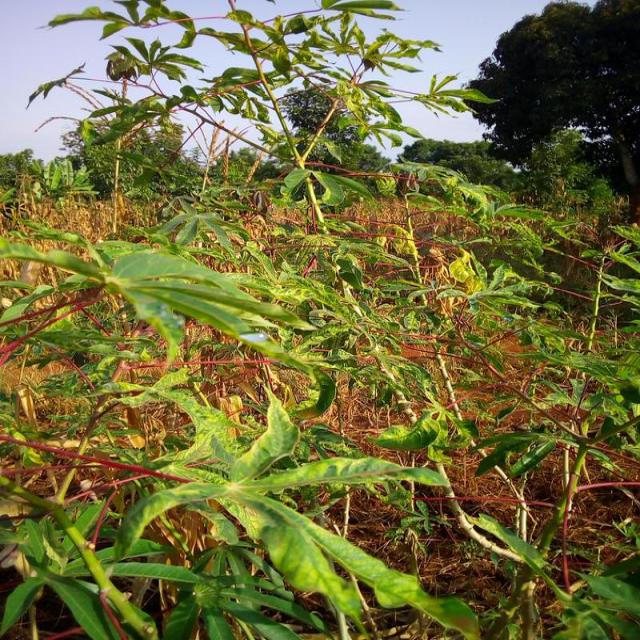Mosaico: (123, 412, 448, 608), (25, 219, 262, 358), (449, 255, 541, 323)
